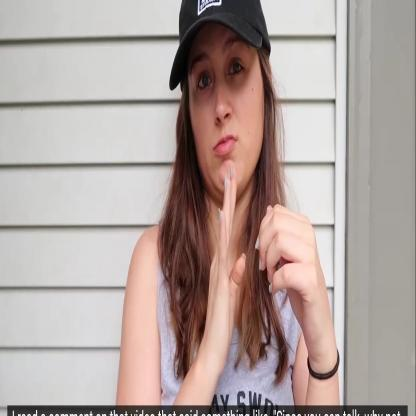Talk: (171, 0, 267, 390)
